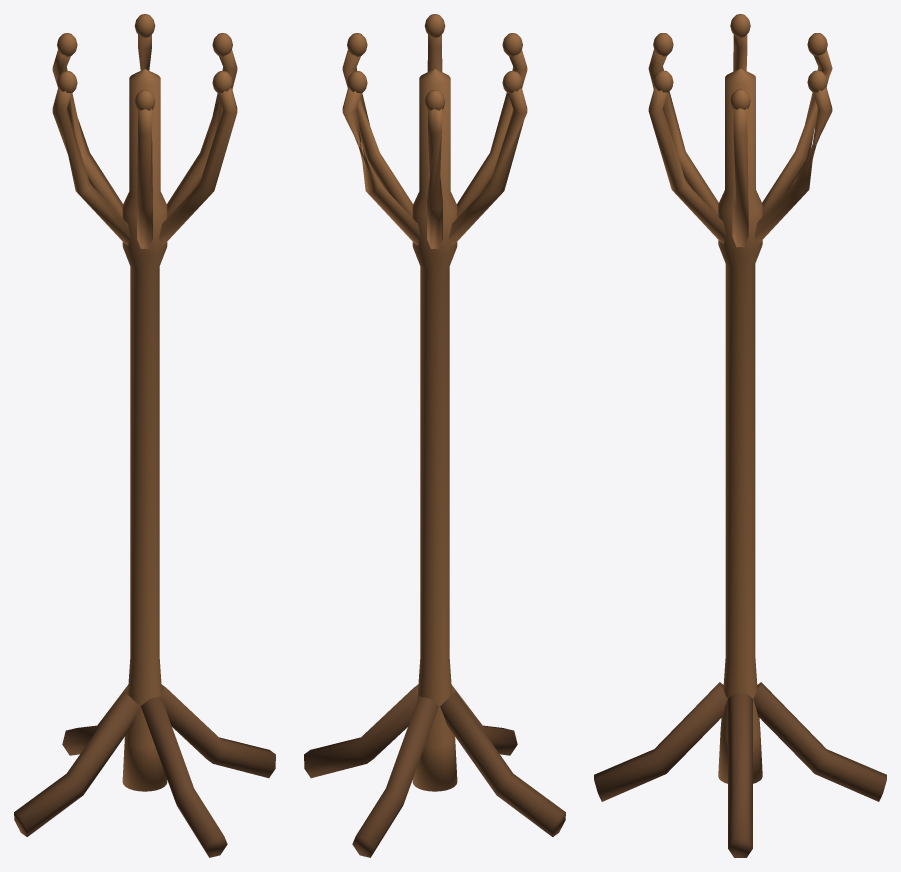
Rendered from S050_standing_coatrack_rebuilt.glb.
3 views of the same model, side by side, from view 1: azimuth 30°, elevation 25°; view 2: azimuth 150°, elevation 25°; view 3: azimuth 270°, elevation 25° (orthographic).
Parts seen in each view (by area): view 1: Oiled_warm_oak, Oak_end_and_edge; view 2: Oiled_warm_oak, Oak_end_and_edge; view 3: Oiled_warm_oak, Oak_end_and_edge.
Part boxes in pixels (x1,y1,x2,y2): Oiled_warm_oak: (52, 14, 237, 791); Oak_end_and_edge: (14, 684, 275, 857); Oiled_warm_oak: (342, 14, 527, 791); Oak_end_and_edge: (304, 684, 565, 857); Oiled_warm_oak: (648, 14, 832, 783); Oak_end_and_edge: (594, 682, 886, 857).
Size of the model in its own units: 0.7 by 1.97 by 0.7.
